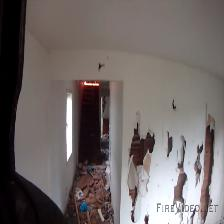nofire: (79, 75, 108, 90)
